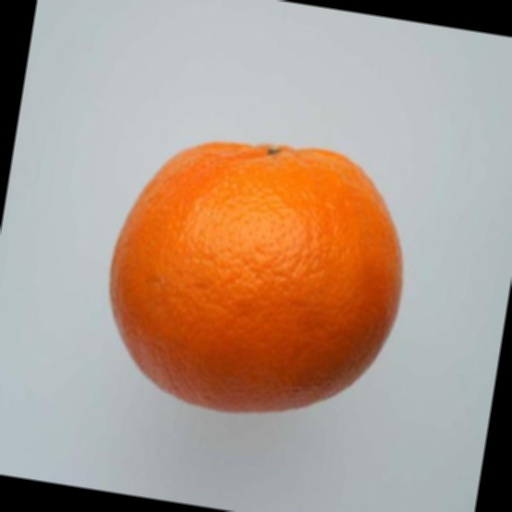fruit: (282, 172, 469, 512)
